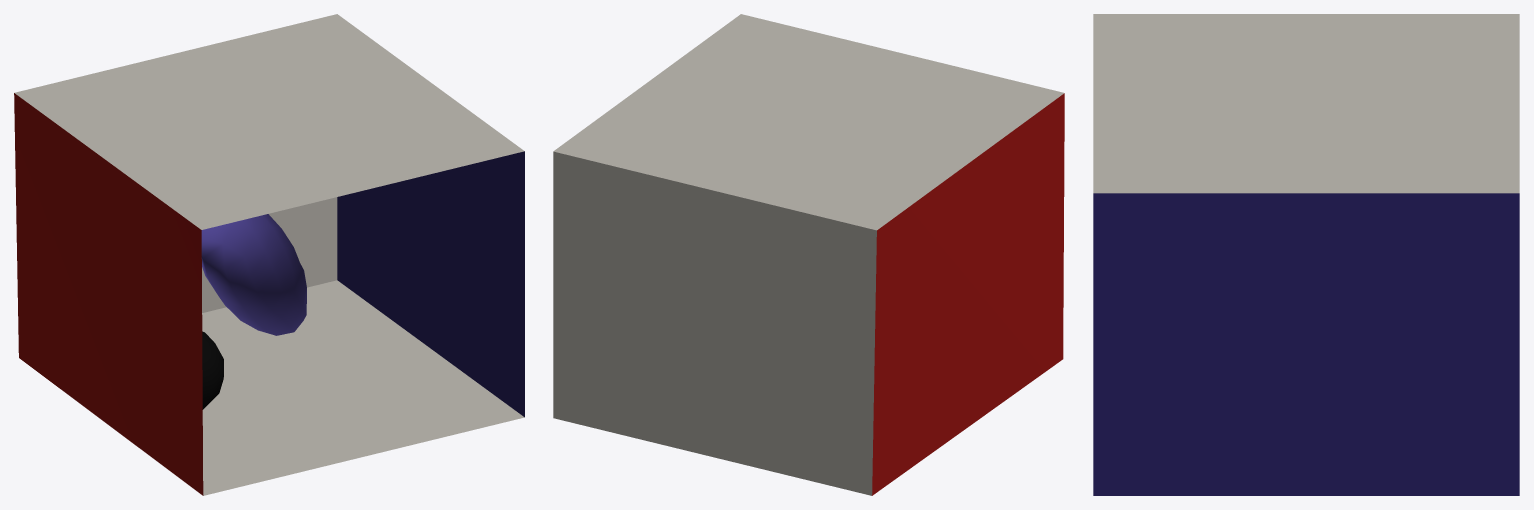
The model's file is CornellBox-Ellipsoid-263.obj.
3 renders of one model, left to right at view 1: azimuth 30°, elevation 25°; view 2: azimuth 150°, elevation 25°; view 3: azimuth 270°, elevation 25°, orthographic. The views are drawn at different scales.
Visible parts, largest first — view 1: ceiling, leftWall, floor, rightWall, leftSphere, backWall, rightSphere; view 2: backWall, ceiling, leftWall; view 3: rightWall, ceiling.
Part boxes in pixels (x1=…): ceiling: x1=14, y1=14, x2=524, y2=229; leftWall: x1=14, y1=93, x2=203, y2=495; floor: x1=202, y1=280, x2=524, y2=495; rightWall: x1=337, y1=151, x2=524, y2=417; leftSphere: x1=201, y1=214, x2=306, y2=335; backWall: x1=202, y1=197, x2=337, y2=312; rightSphere: x1=202, y1=331, x2=223, y2=409; backWall: x1=553, y1=151, x2=876, y2=495; ceiling: x1=553, y1=14, x2=1064, y2=230; leftWall: x1=872, y1=93, x2=1064, y2=495; rightWall: x1=1093, y1=193, x2=1519, y2=495; ceiling: x1=1093, y1=14, x2=1519, y2=193.
Bounding box in the file's own units: 2.02 × 1.59 × 2.03.
